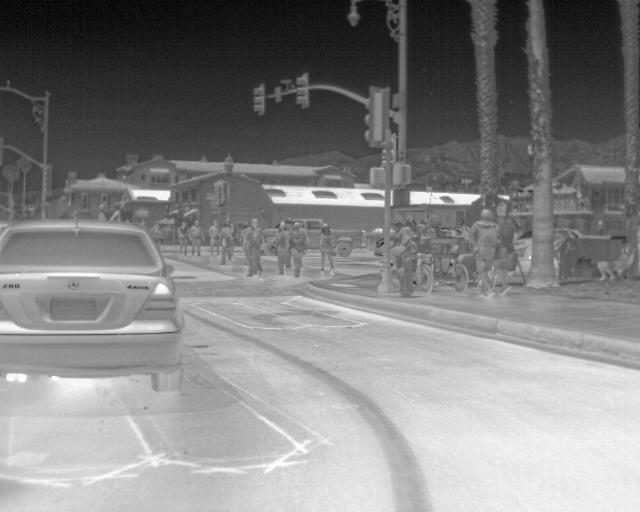bicycle: (2, 218, 181, 394), (335, 228, 364, 256)
empty: (469, 208, 497, 294), (493, 197, 515, 295), (388, 217, 420, 270), (316, 221, 337, 271), (217, 221, 237, 267), (272, 219, 289, 273), (244, 228, 263, 276), (290, 221, 307, 274), (188, 219, 202, 258), (242, 219, 262, 246), (174, 222, 189, 257), (206, 220, 219, 253)
